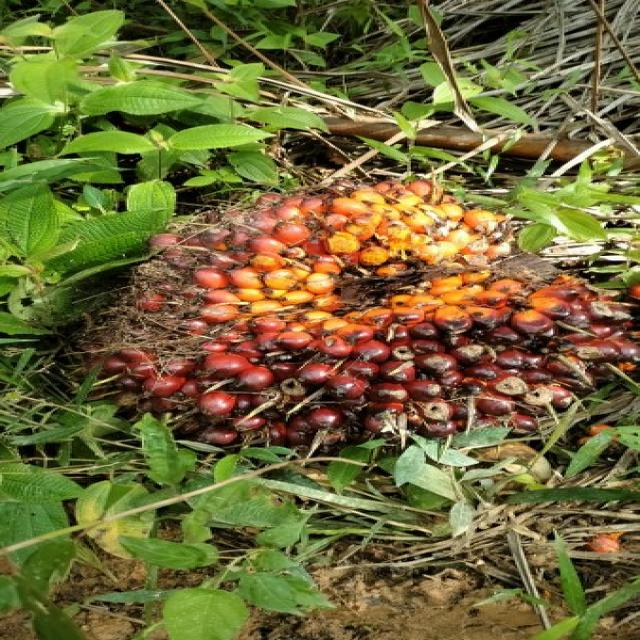fraksi 3: (30, 129, 640, 514)
